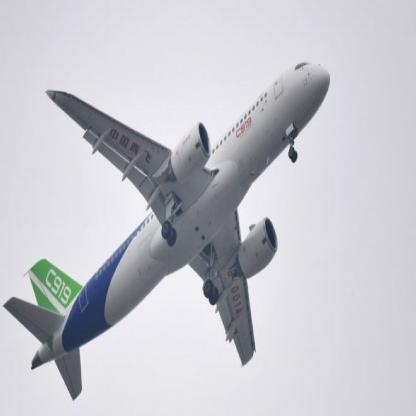CIV_Plane: (2, 52, 330, 402)
